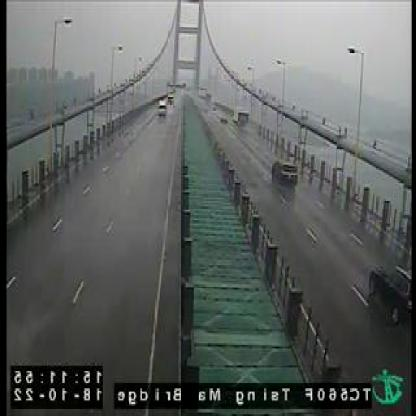Car: (368, 266, 414, 326)
Truck: (156, 99, 168, 119)
